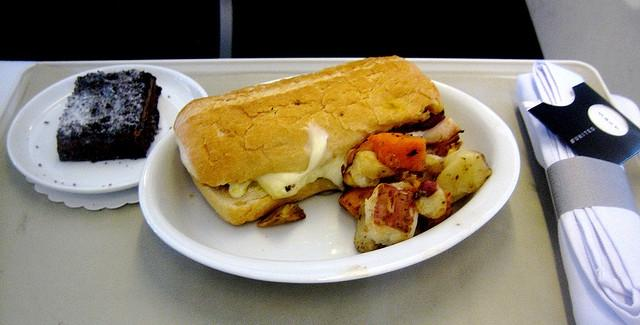potato: (363, 183, 419, 247), (436, 148, 492, 202), (344, 150, 393, 188), (354, 202, 388, 253), (413, 180, 447, 220), (256, 204, 307, 228), (425, 155, 444, 177), (426, 144, 448, 158)
